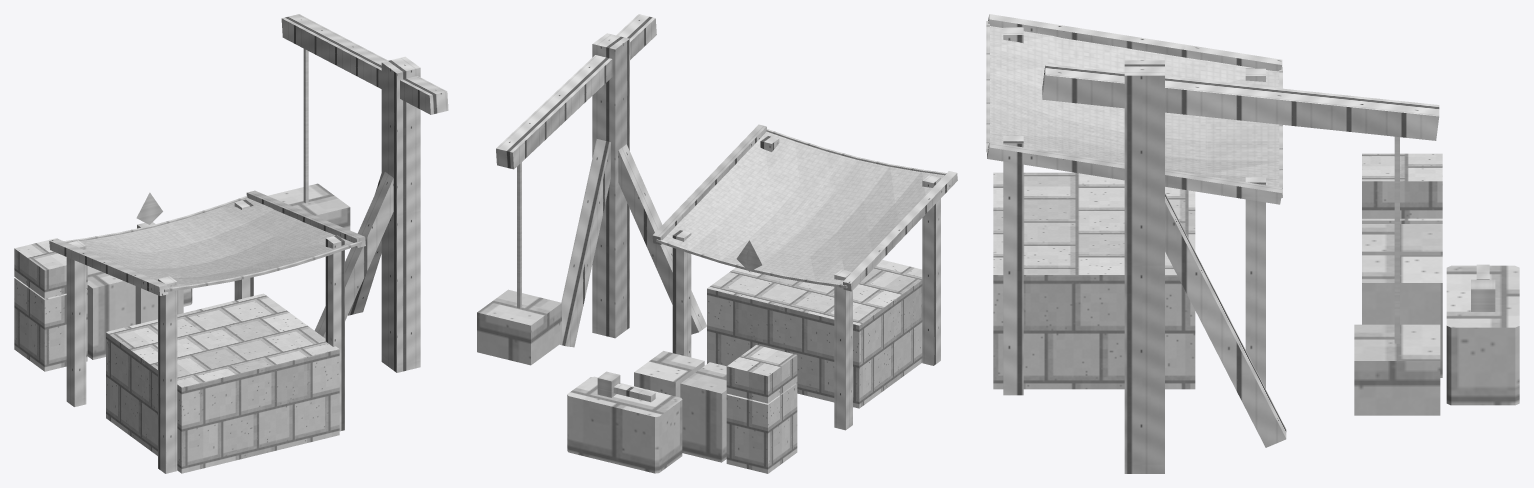
File: Ashen_Stoneworks.obj
3 views of the same model, side by side, from view 1: azimuth 30°, elevation 25°; view 2: azimuth 150°, elevation 25°; view 3: azimuth 270°, elevation 25° (orthographic). The views are drawn at different scales.
Visible parts, largest first — view 1: Ashen_Stoneworks; view 2: Ashen_Stoneworks; view 3: Ashen_Stoneworks.
Part boxes in pixels (x1,y1,x2,y2): Ashen_Stoneworks: (14,14,448,473); Ashen_Stoneworks: (477,14,957,473); Ashen_Stoneworks: (986,14,1519,473).
Bounding box in the file's own units: 4.99 × 4.35 × 5.28.
Materials: 8 (8 with a texture image).
